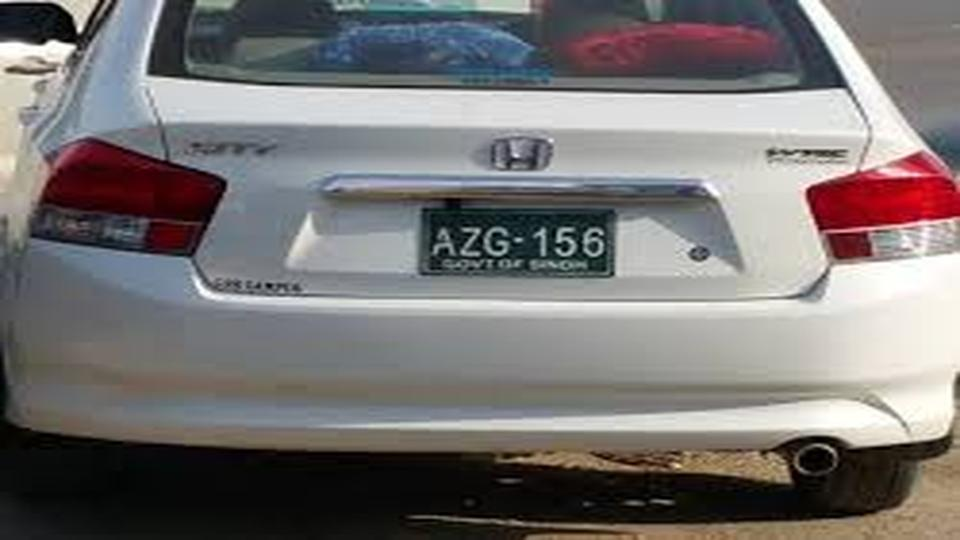NumberPlate: (414, 215, 625, 281)
